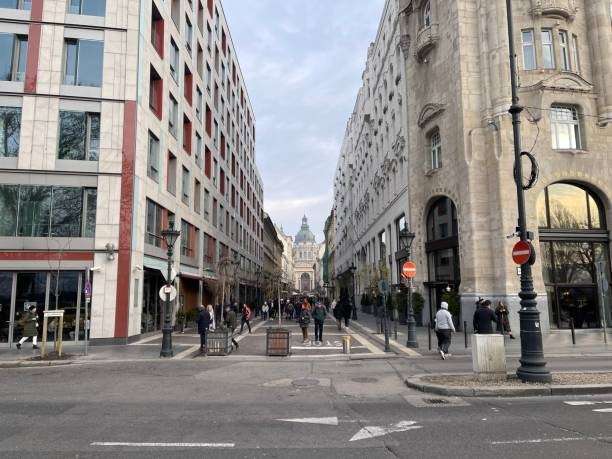Girilmez: (507, 238, 536, 269), (400, 260, 417, 281)
yaya: (423, 295, 464, 368)
